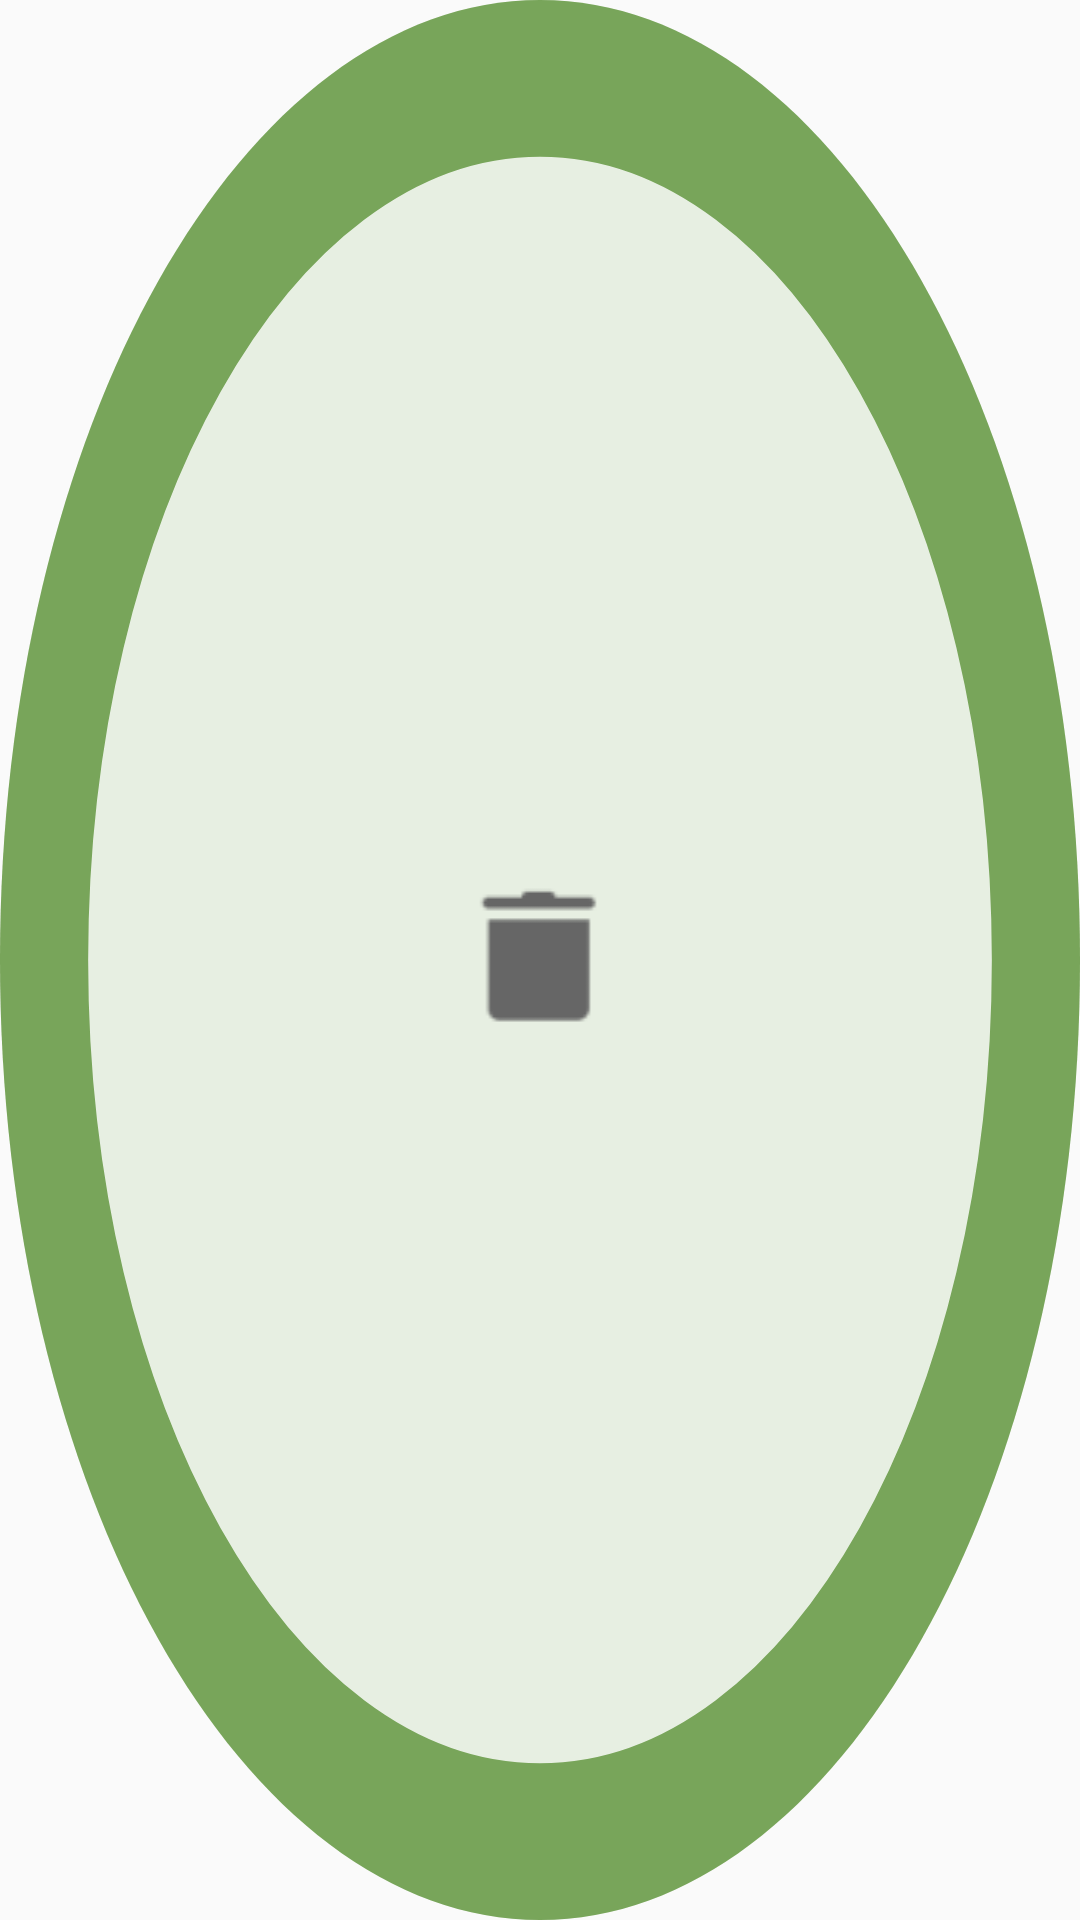

Point at icon controls on the screen. Image size 1080px x 1920px, points as [x,y].
trashcan: [538,956]
